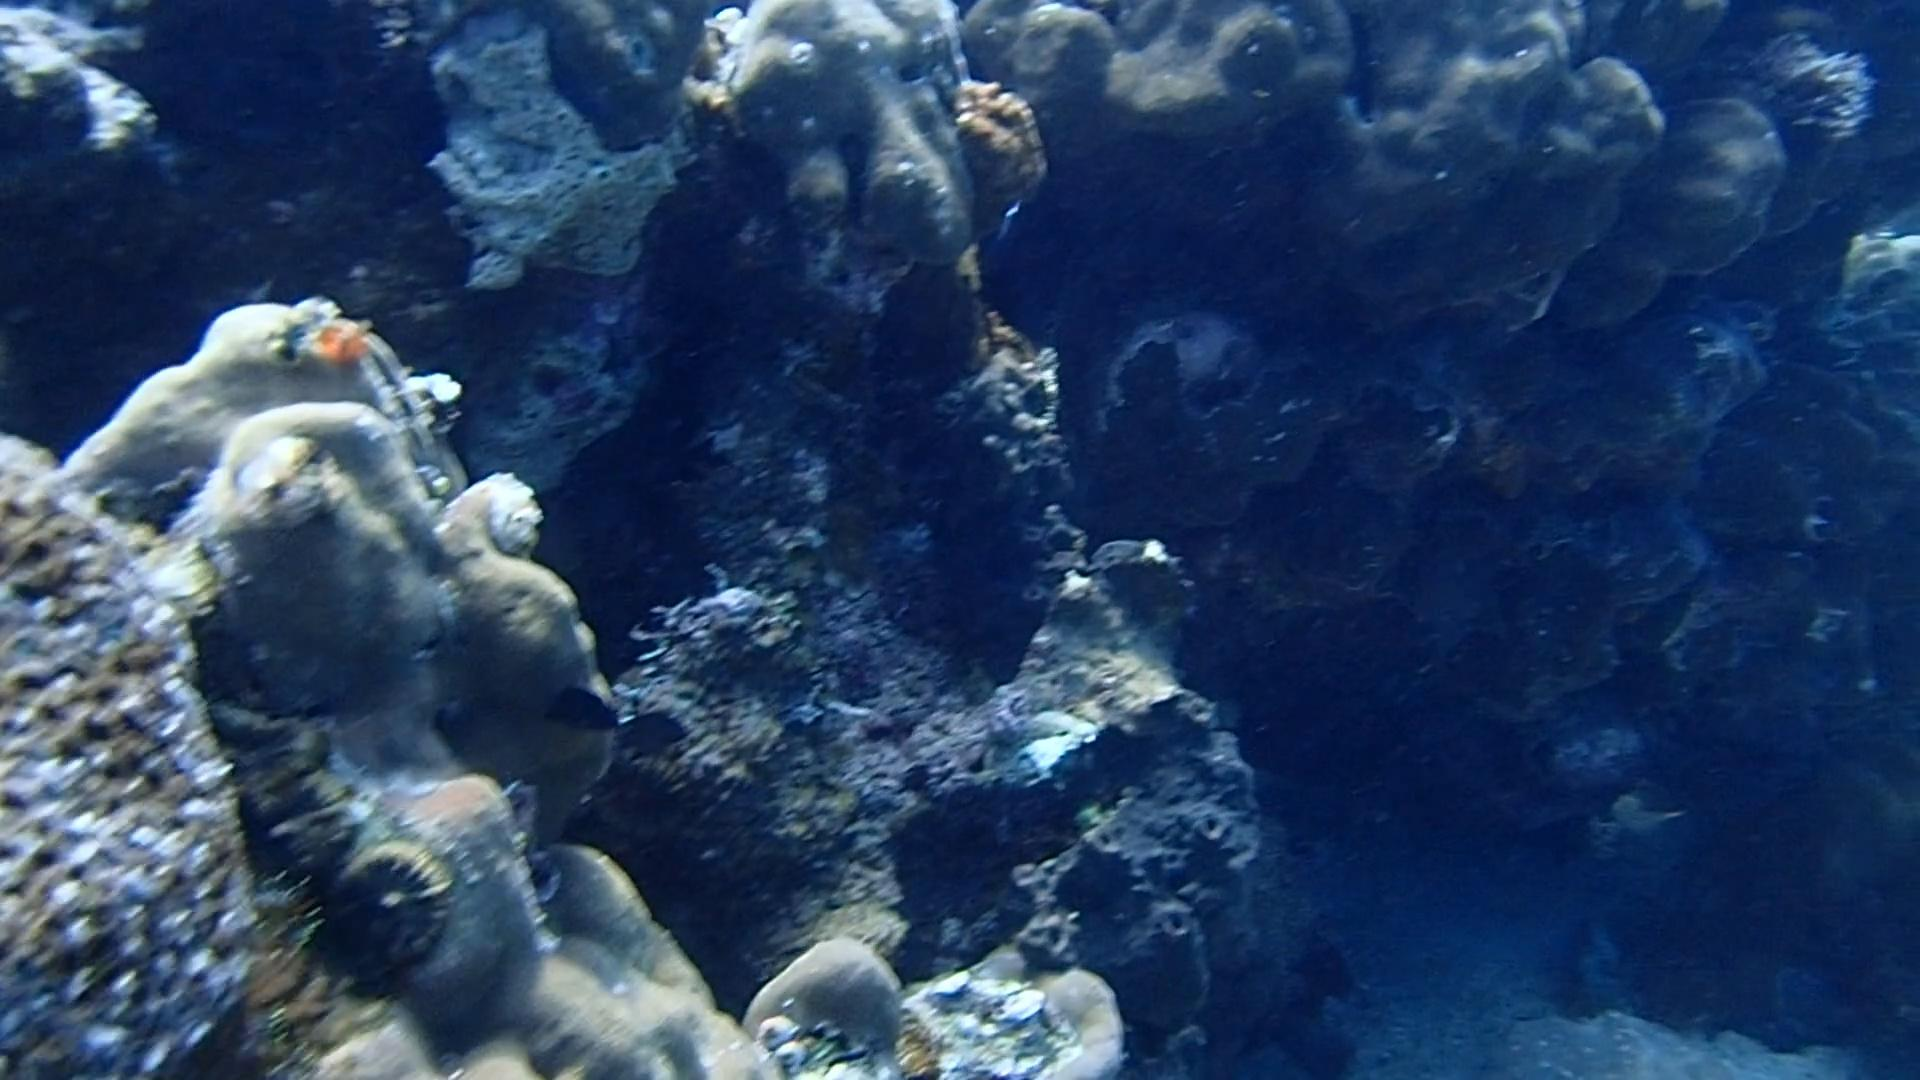Dark Fish: (535, 676, 638, 741), (603, 699, 690, 766)
